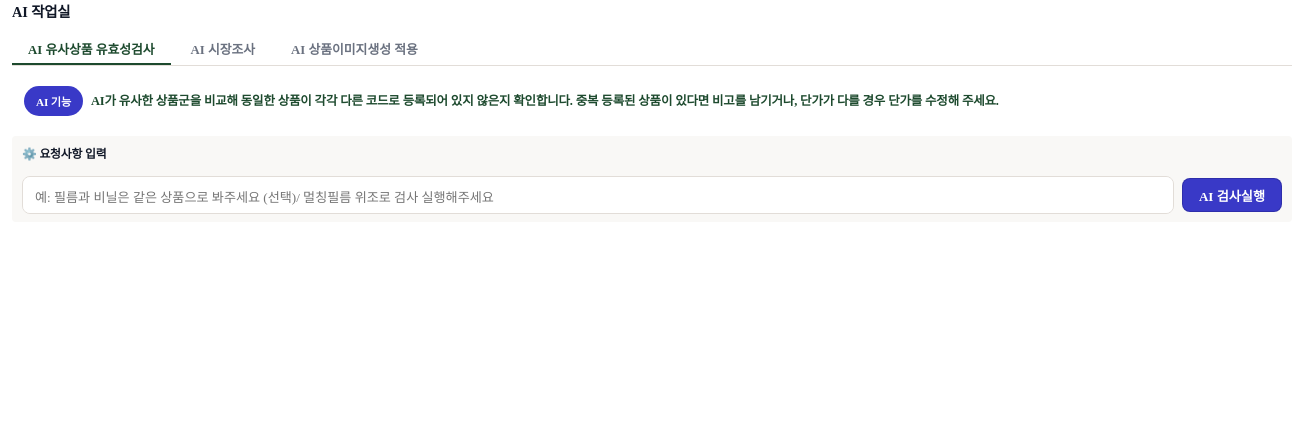
Test case: WorkbookAiRecommendationPanel › shows the unmatched reason when the AI finds no matching rows
Click the tab "AI 상품이미지생성 적용". click: (354, 50)
box: [275, 34, 434, 65]
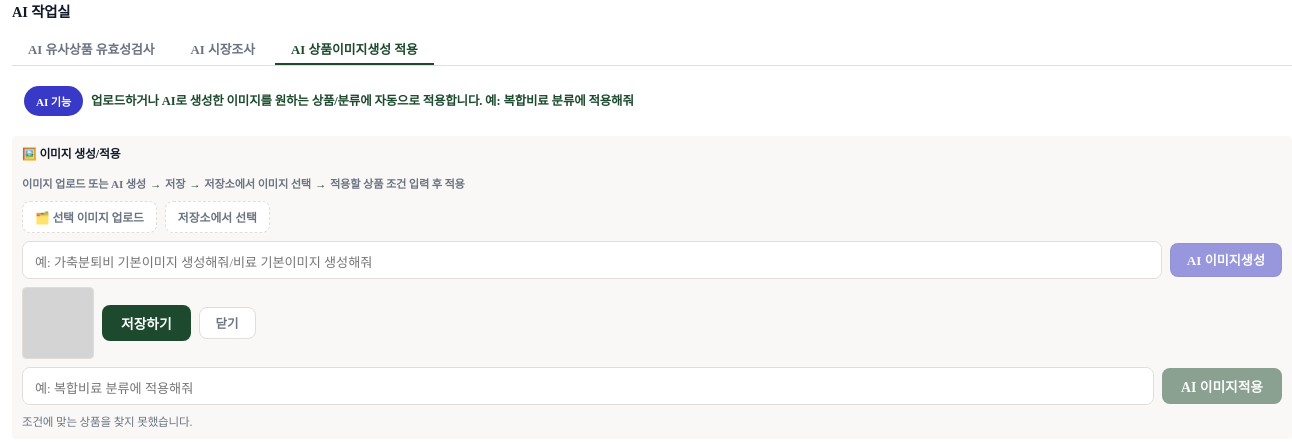
Check: the text "조건에 맞는 상품을 찾지 못했습니다." is shown, box [22, 416, 192, 428]
